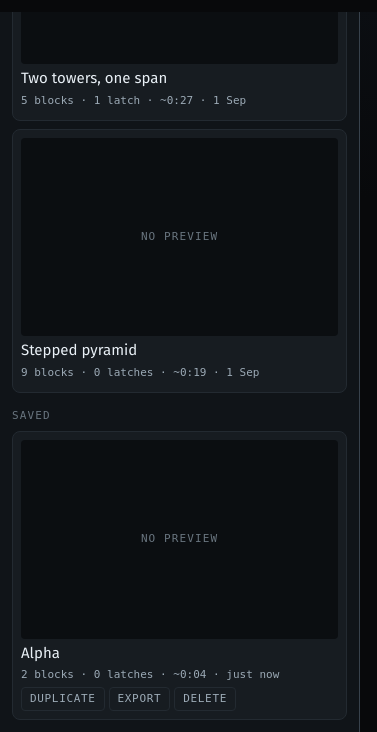
Test: LibraryDrawer — rename, duplicate, delete with undo › duplicates into a new card without disturbing the original
The width and height of the screenshot is (377, 732).
(page scrolled)
What coordinates should you click on to do the following:
click the button "DUPLICATE"
I would click on:
 (63, 699)
Its box is [21,687,104,711].
(page scrolled)
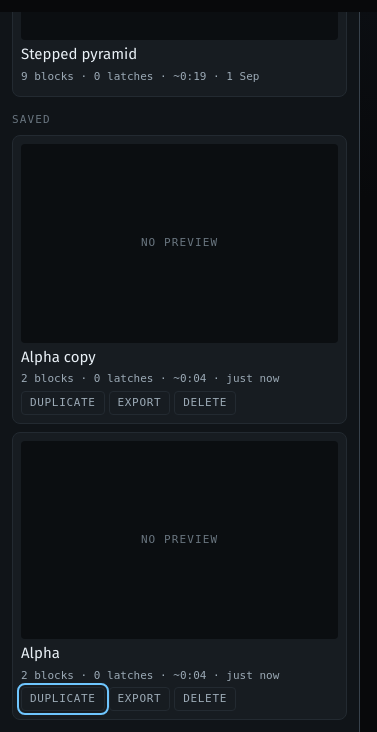
Expected: the list item "Alpha" is shown, [12,432,347,720]
Result: the list item "Alpha copy" is shown at [12,135,347,424]
